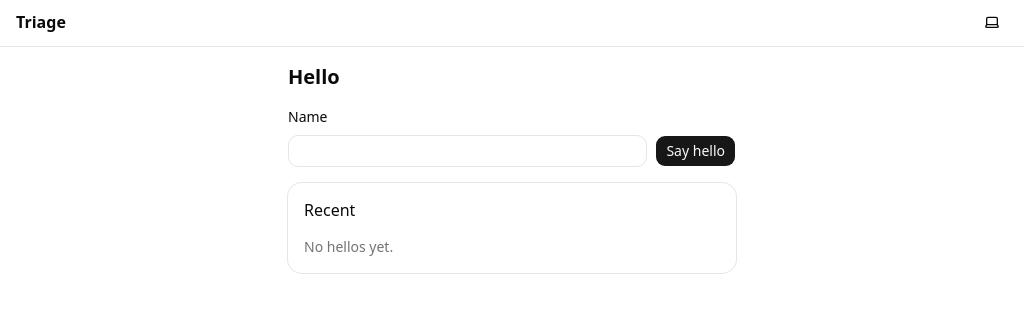
a 422 from the server shows its field error inline
The width and height of the screenshot is (1024, 319).
Type "world" into the field labelled "Name".
click(468, 151); type("world")  # box [288,135,647,167]
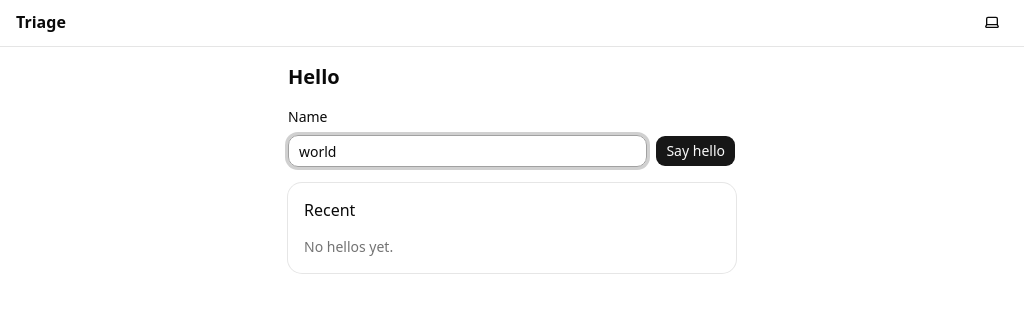
Click the button "Say hello".
click(696, 151)  # box [655,135,736,167]
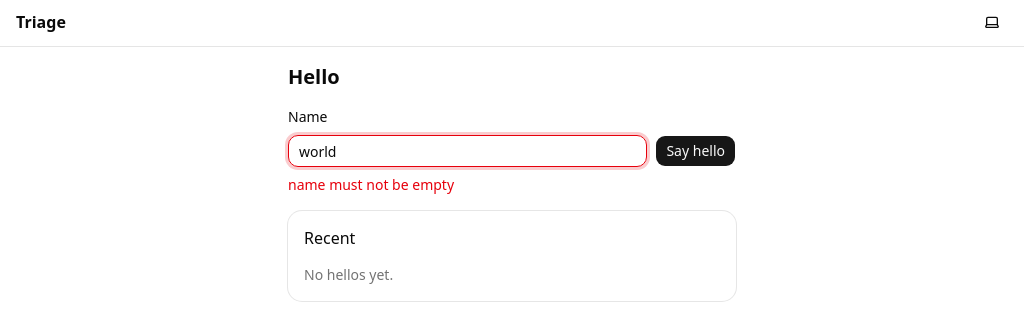
Check: the message reads "name must not be empty", box [288,175,454,194]
